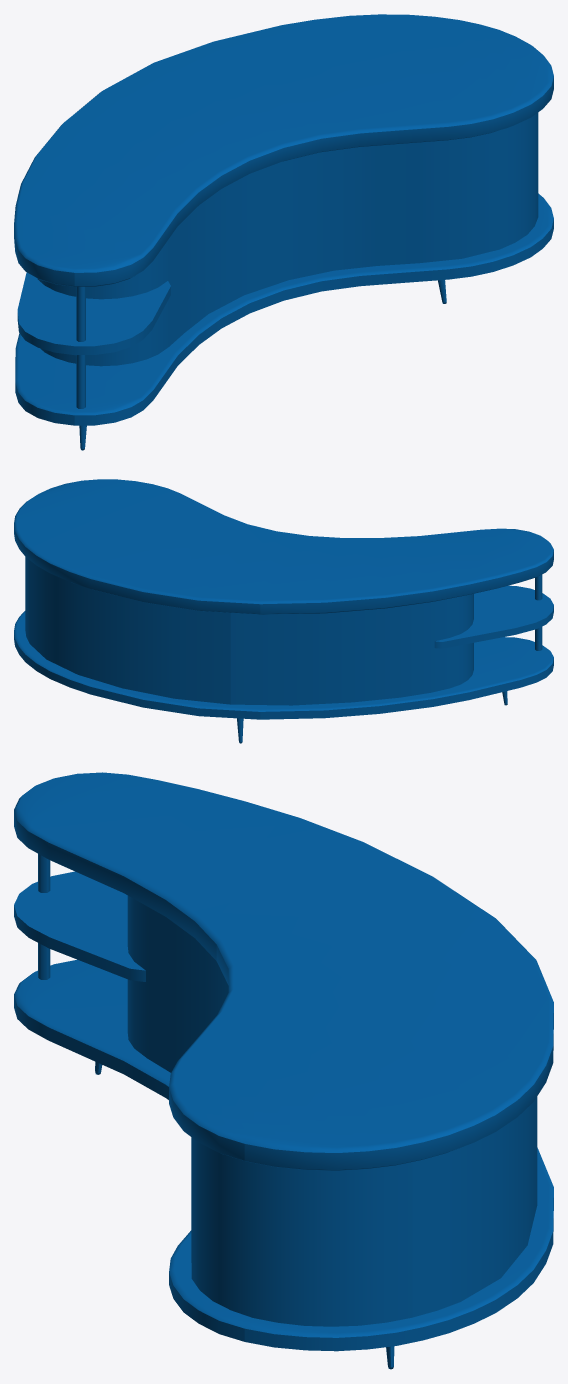
File: SM_Table_01.fbx
The picture shows the model from 3 angles, top to bottom: view 1: azimuth 30°, elevation 25°; view 2: azimuth 150°, elevation 25°; view 3: azimuth 270°, elevation 25°; orthographic projection. The views are drawn at different scales.
Visible parts, largest first — view 1: SM_Table_01; view 2: SM_Table_01; view 3: SM_Table_01.
Part boxes in pixels (x1=…): SM_Table_01: x1=14, y1=14, x2=553, y2=450; SM_Table_01: x1=14, y1=479, x2=553, y2=743; SM_Table_01: x1=14, y1=772, x2=553, y2=1369.
Size of the model in its own units: 7.11 by 2.36 by 4.29.
